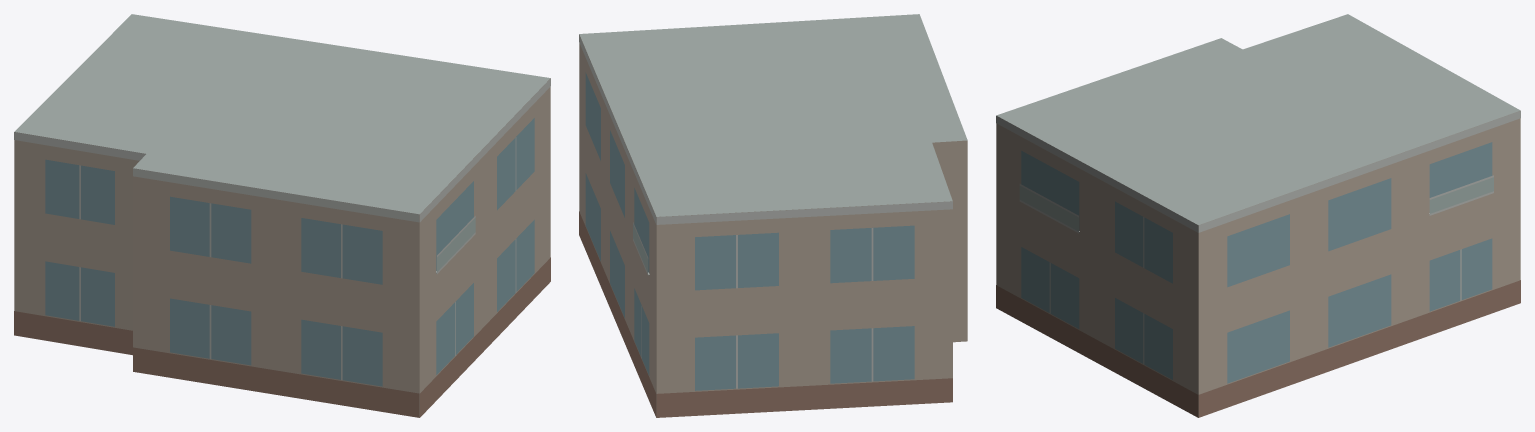
Rendered from survey-upis-32912952.glb.
The picture shows the model from 3 angles, left to right: view 1: azimuth 30°, elevation 25°; view 2: azimuth 150°, elevation 25°; view 3: azimuth 270°, elevation 25°; orthographic projection. The views are drawn at different scales.
Parts seen in each view (by area): view 1: survey-upis-32912952.tmp; view 2: survey-upis-32912952.tmp; view 3: survey-upis-32912952.tmp.
Part boxes in pixels (x1,y1,x2,y2): survey-upis-32912952.tmp: (14,14,550,417); survey-upis-32912952.tmp: (579,14,967,417); survey-upis-32912952.tmp: (996,14,1520,417).
Size of the model in its own units: 14.36 by 6.1 by 15.07.
